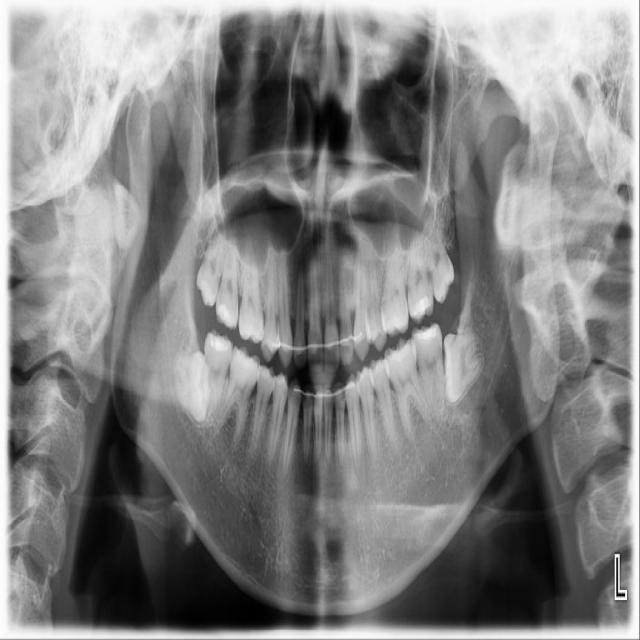Filling: (414, 298, 430, 315), (200, 280, 212, 302), (211, 338, 228, 352), (419, 328, 436, 340), (218, 305, 227, 319)
impacted tooth: (159, 351, 211, 422), (442, 329, 486, 404)
